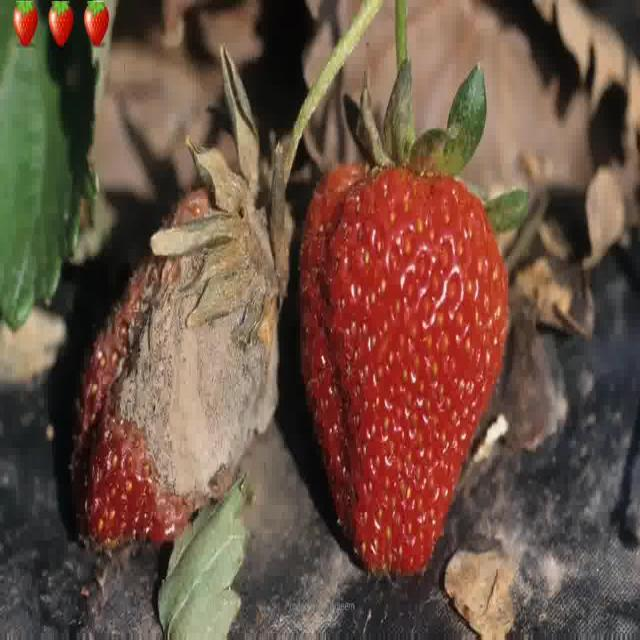Moho gris: (48, 116, 289, 528)
